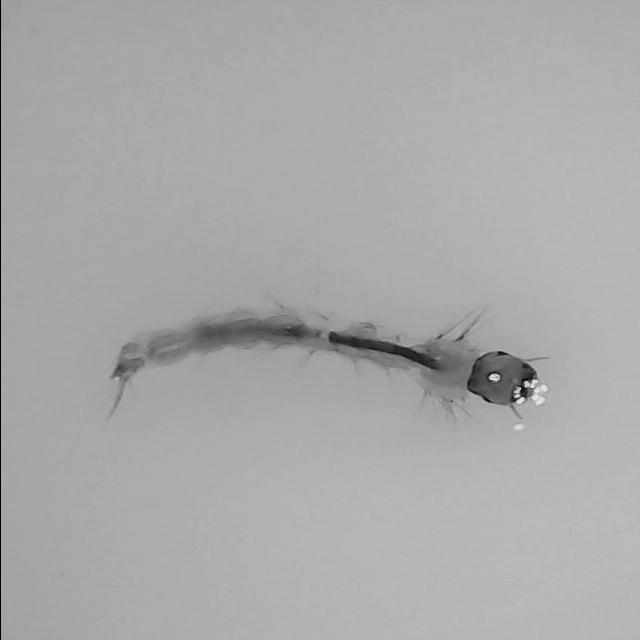larvas: (105, 304, 537, 418)
